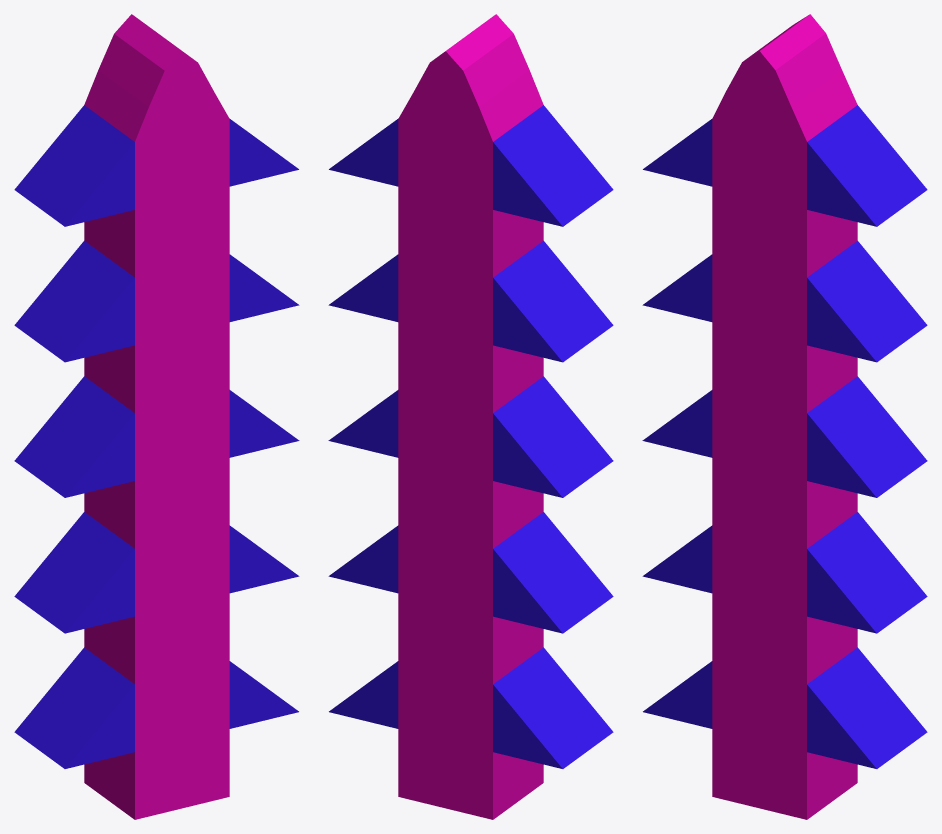
The model's file is saw2.fbx.
3 renders of one model, left to right at view 1: azimuth 30°, elevation 25°; view 2: azimuth 150°, elevation 25°; view 3: azimuth 330°, elevation 25°, orthographic.
Visible parts, largest first — view 1: Cube; view 2: Cube; view 3: Cube.
Boxes of the visible parts, <box> form: Cube: <box>14,14,299,819</box>; Cube: <box>328,14,613,819</box>; Cube: <box>642,14,927,819</box>.
Bounding box in the file's own units: 111 × 342 × 41.46.
